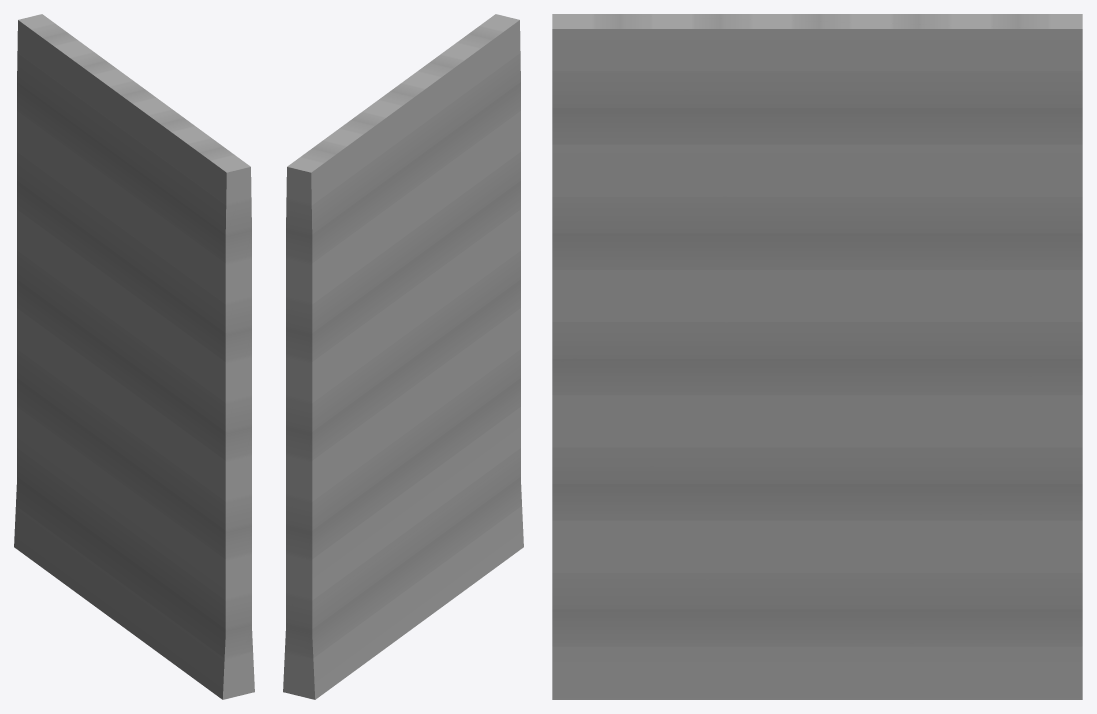
Rendered from dev_metaldoorr.FBX.
The picture shows the model from 3 angles, left to right: view 1: azimuth 30°, elevation 25°; view 2: azimuth 150°, elevation 25°; view 3: azimuth 270°, elevation 25°; orthographic projection. The views are drawn at different scales.
Parts seen in each view (by area): view 1: Box001; view 2: Box001; view 3: Box001.
Boxes of the visible parts, x1=… form: Box001: x1=14, y1=14, x2=254, y2=699; Box001: x1=283, y1=14, x2=523, y2=699; Box001: x1=552, y1=14, x2=1082, y2=699.
Size of the model in its own units: 5.37 by 83.9 by 60.32.
1 material, 1 textured.
